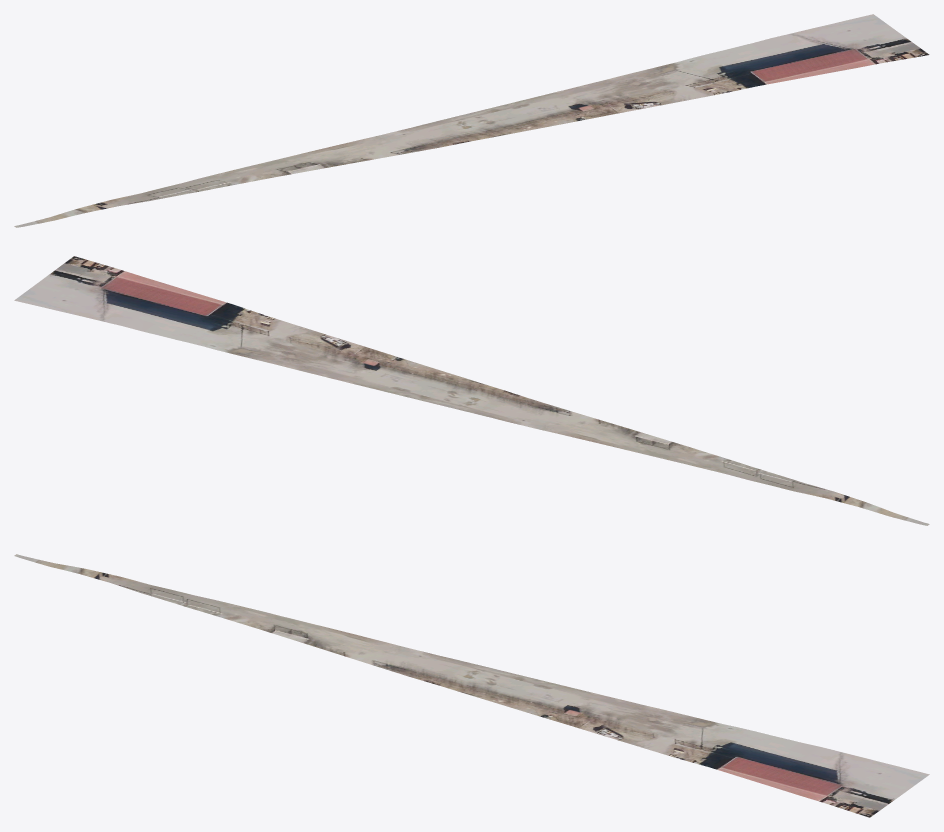
File: CM_Terrain_24488001_6818565.fbx
3 views of the same model, one above another, from view 1: azimuth 30°, elevation 25°; view 2: azimuth 150°, elevation 25°; view 3: azimuth 330°, elevation 25° (orthographic). The views are drawn at different scales.
Visible parts, largest first — view 1: CM_Terrain_24488001_6818565_LOD0; view 2: CM_Terrain_24488001_6818565_LOD0; view 3: CM_Terrain_24488001_6818565_LOD0.
Boxes of the visible parts, x1,y1,x2,y2 form: CM_Terrain_24488001_6818565_LOD0: (14,14,929,227); CM_Terrain_24488001_6818565_LOD0: (14,256,929,525); CM_Terrain_24488001_6818565_LOD0: (14,554,929,817).
Size of what is drawn, in the model's own units: 205 by 0.893 by 23.34.
